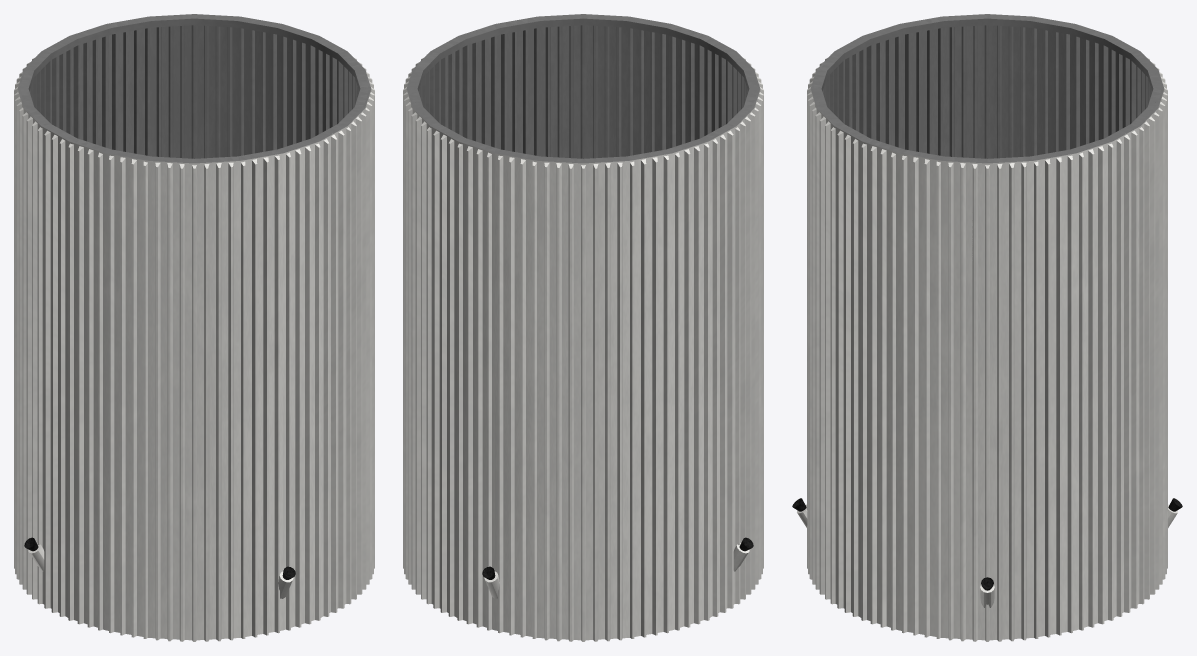
Rendered from ksprocket.fbx.
3 views of the same model, side by side, from view 1: azimuth 30°, elevation 25°; view 2: azimuth 150°, elevation 25°; view 3: azimuth 270°, elevation 25° (orthographic).
Parts seen in each view (by area): view 1: bits.012; view 2: bits.012; view 3: bits.012.
Part boxes in pixels (x1,y1,x2,y2): bits.012: (14,14,374,641); bits.012: (403,14,763,641); bits.012: (792,14,1182,641).
Size of the model in its own units: 927 by 1250 by 927.
